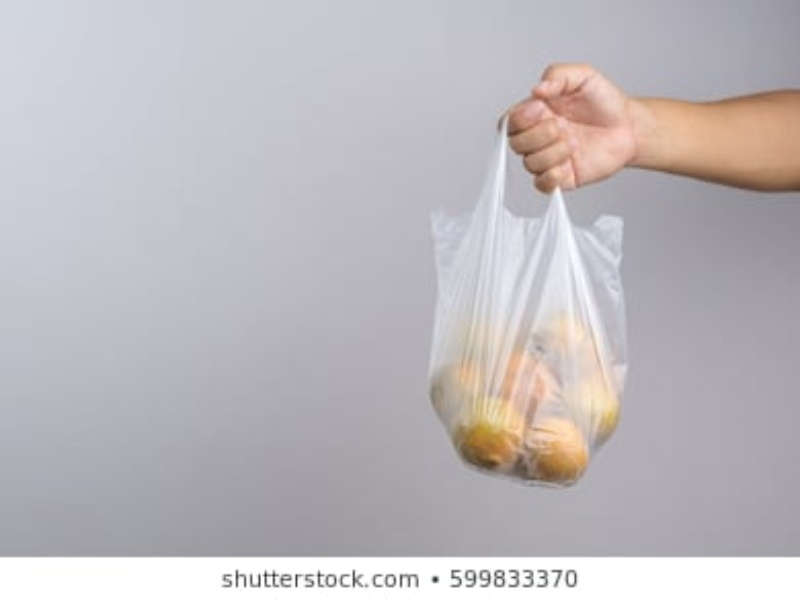plastic-bag: (424, 109, 637, 485)
